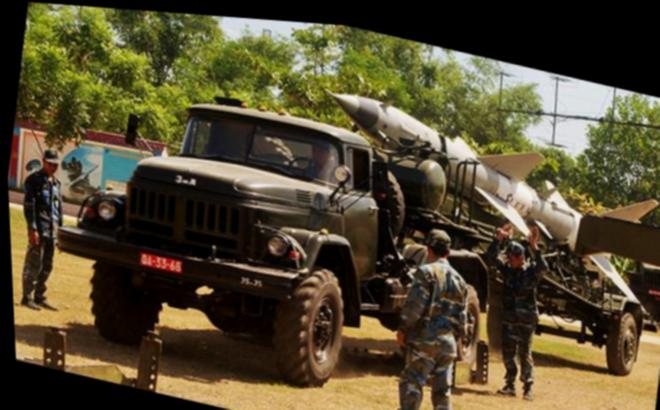License_Plate: (137, 250, 185, 282)
